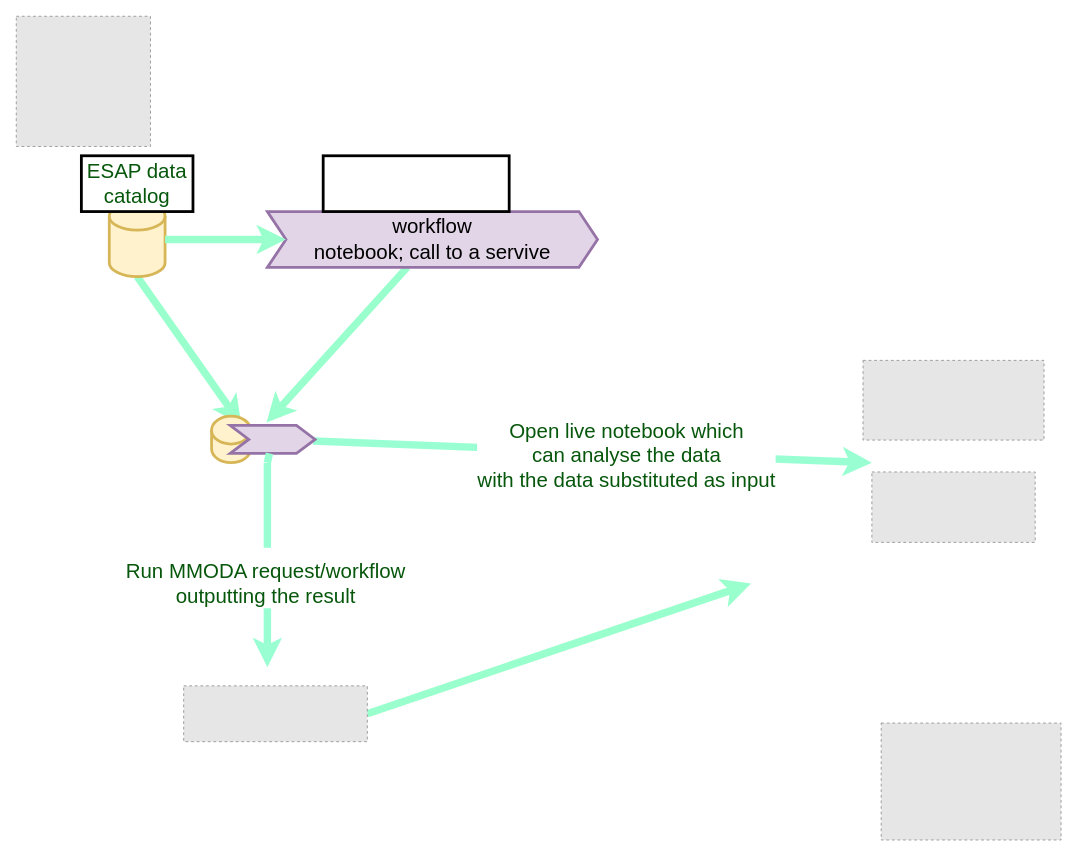
The diagram is 1078 pixels wide and 857 high, and some of its shapes have lost their labels. Grey dashed boxes stand in for pictures. Each missing label, with the centre of its shape:
"data" goes at (136,239).
"ESAP workflow catalog" goes at (415,183).
